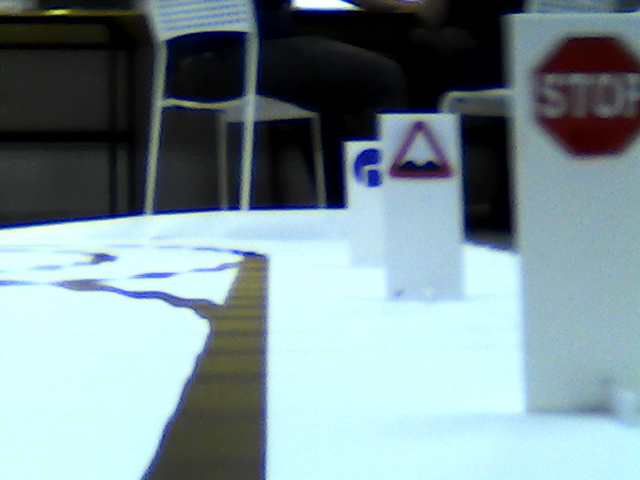Stop: (532, 26, 640, 160)
